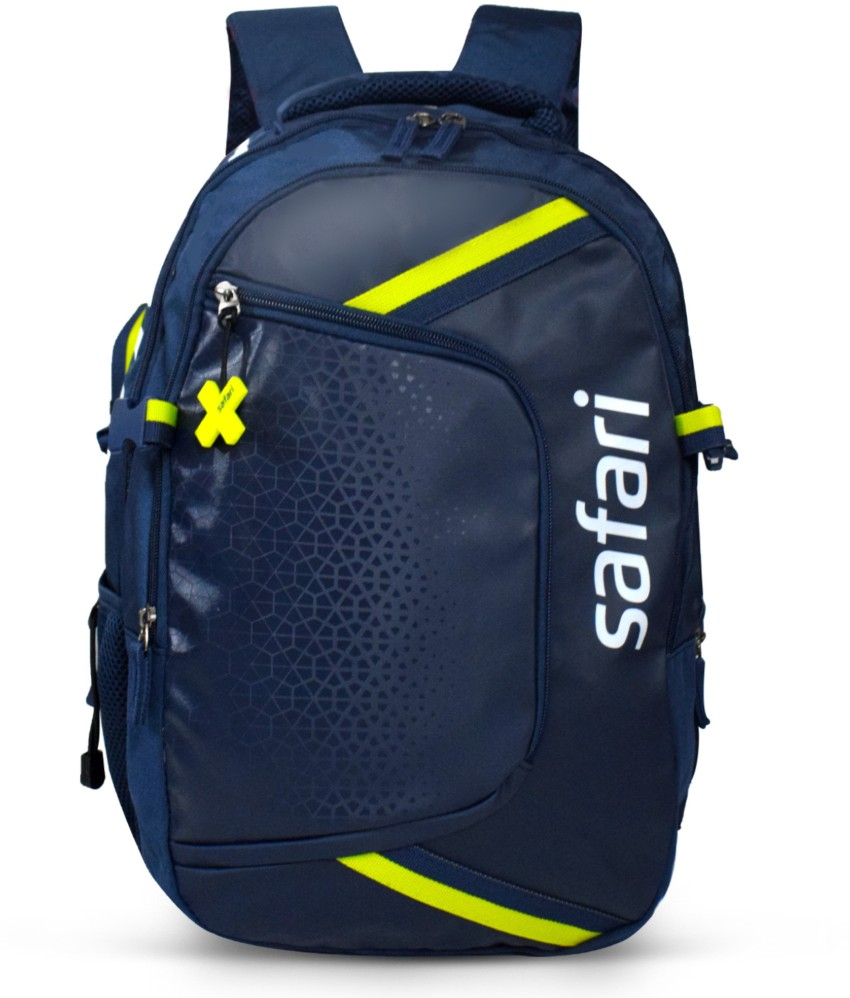backpack: (79, 2, 737, 959)
